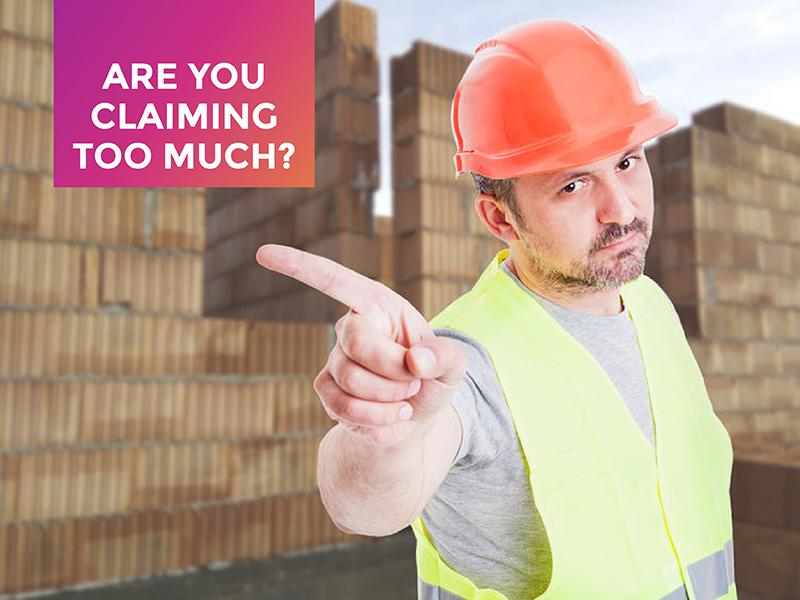helmet: (452, 19, 676, 175)
